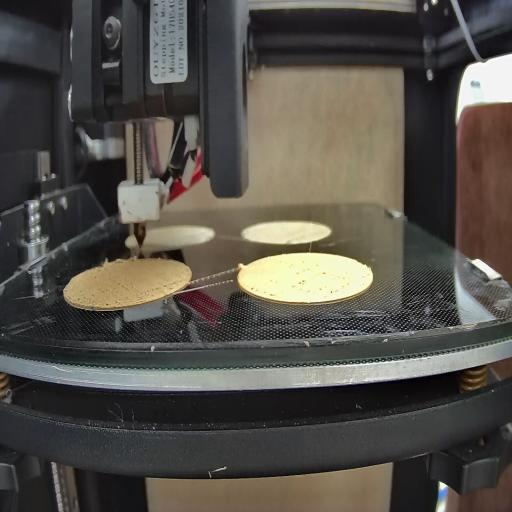under_extrusion: (66, 275, 188, 307), (290, 260, 353, 300), (248, 280, 278, 304)
